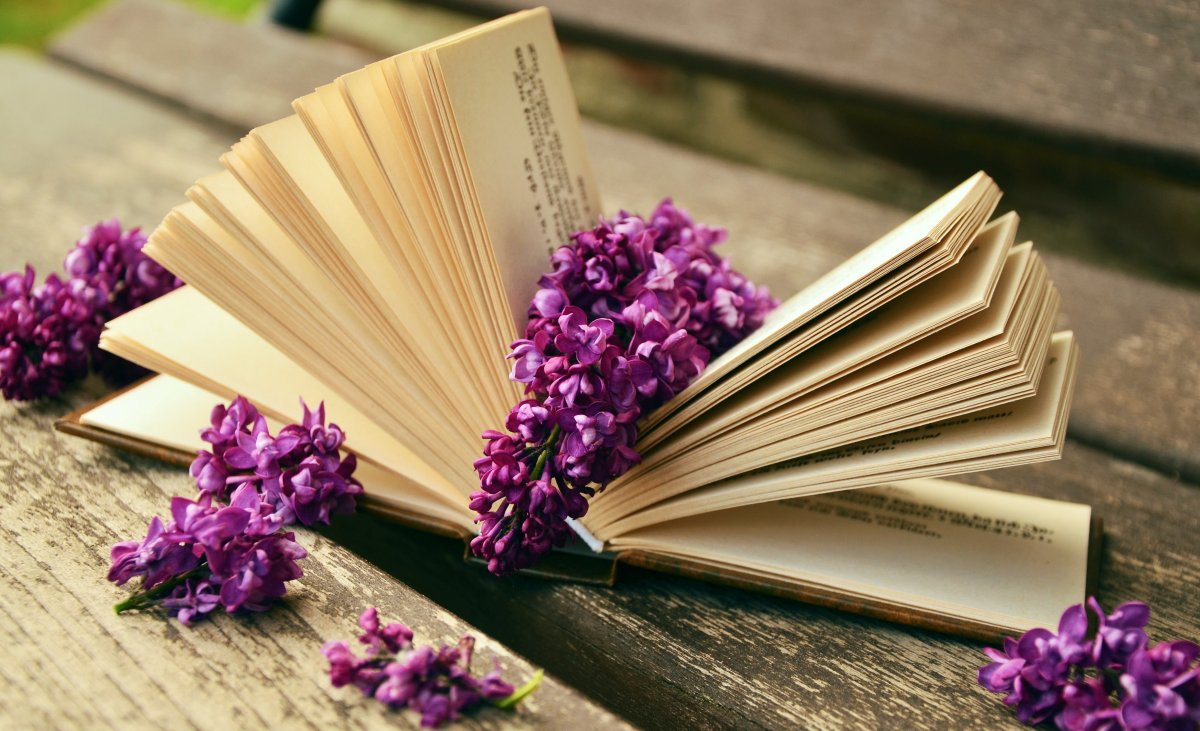book: (53, 4, 1122, 677)
